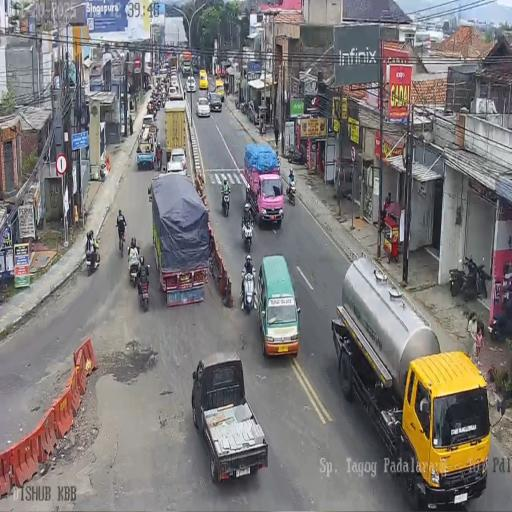car: (190, 353, 268, 483), (255, 255, 300, 355), (166, 147, 187, 175), (208, 92, 222, 112), (199, 69, 208, 90), (186, 76, 196, 92), (161, 64, 169, 79), (170, 75, 178, 89), (192, 64, 198, 75)
motorcycle: (449, 251, 488, 301), (137, 268, 150, 310), (241, 216, 254, 254), (86, 241, 100, 276), (285, 142, 305, 165), (220, 185, 230, 217), (128, 254, 138, 286), (286, 176, 296, 206), (240, 99, 249, 115), (146, 100, 154, 114), (225, 83, 230, 97), (235, 96, 238, 109)
truck: (332, 261, 490, 509), (150, 172, 209, 305), (243, 142, 284, 230), (141, 114, 155, 138), (181, 50, 192, 76), (168, 54, 178, 74)
